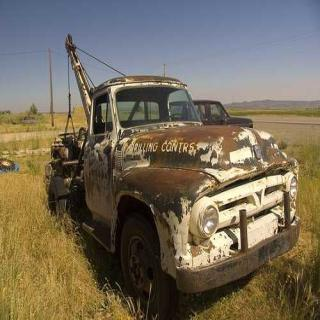Towing_truck: (42, 31, 302, 318)
